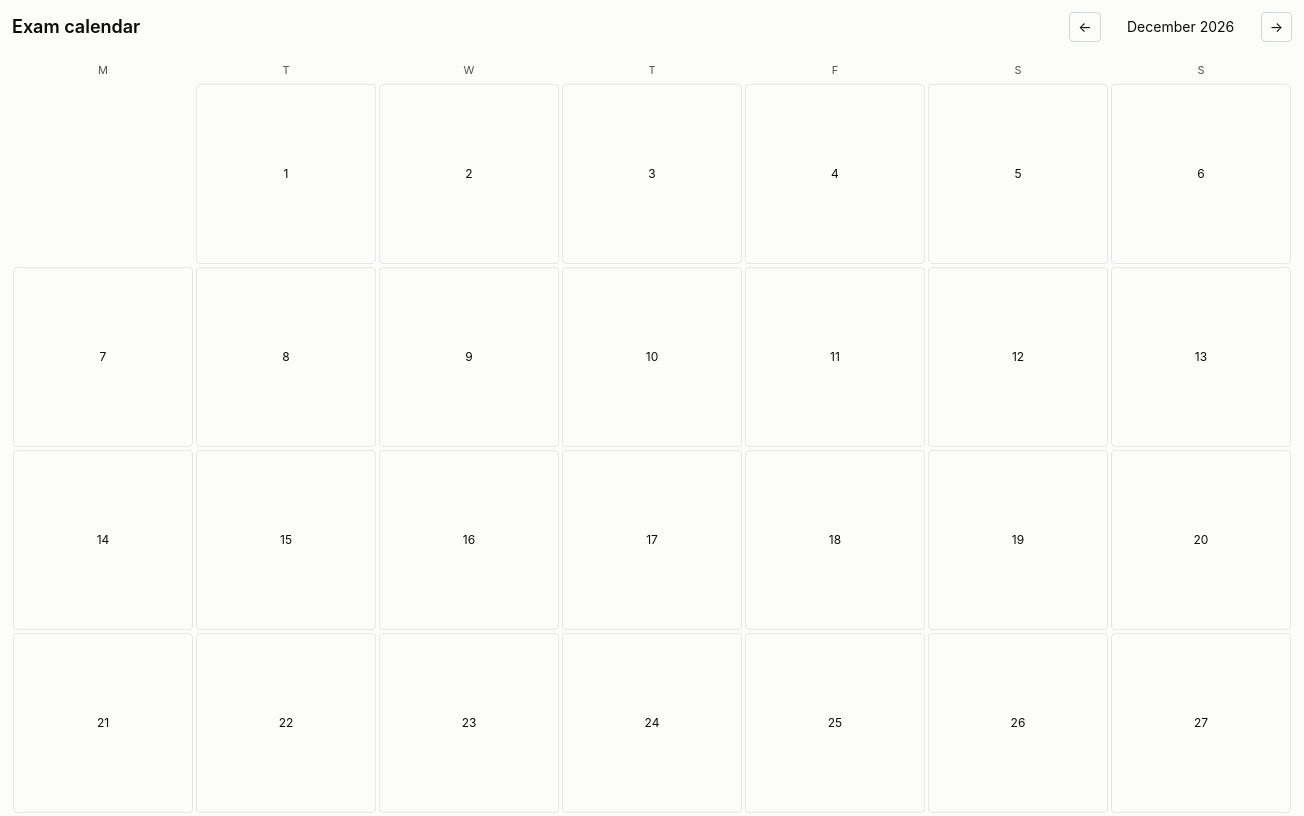
Test case: CalendarView › rolls over the year at December and January
The width and height of the screenshot is (1304, 816).
Expected: the text "December 2026" is shown, top-left (1127, 18), bottom-right (1234, 35)
Click the button named "Next month" at (1276, 27), box top-left (1261, 12), bottom-right (1292, 42)
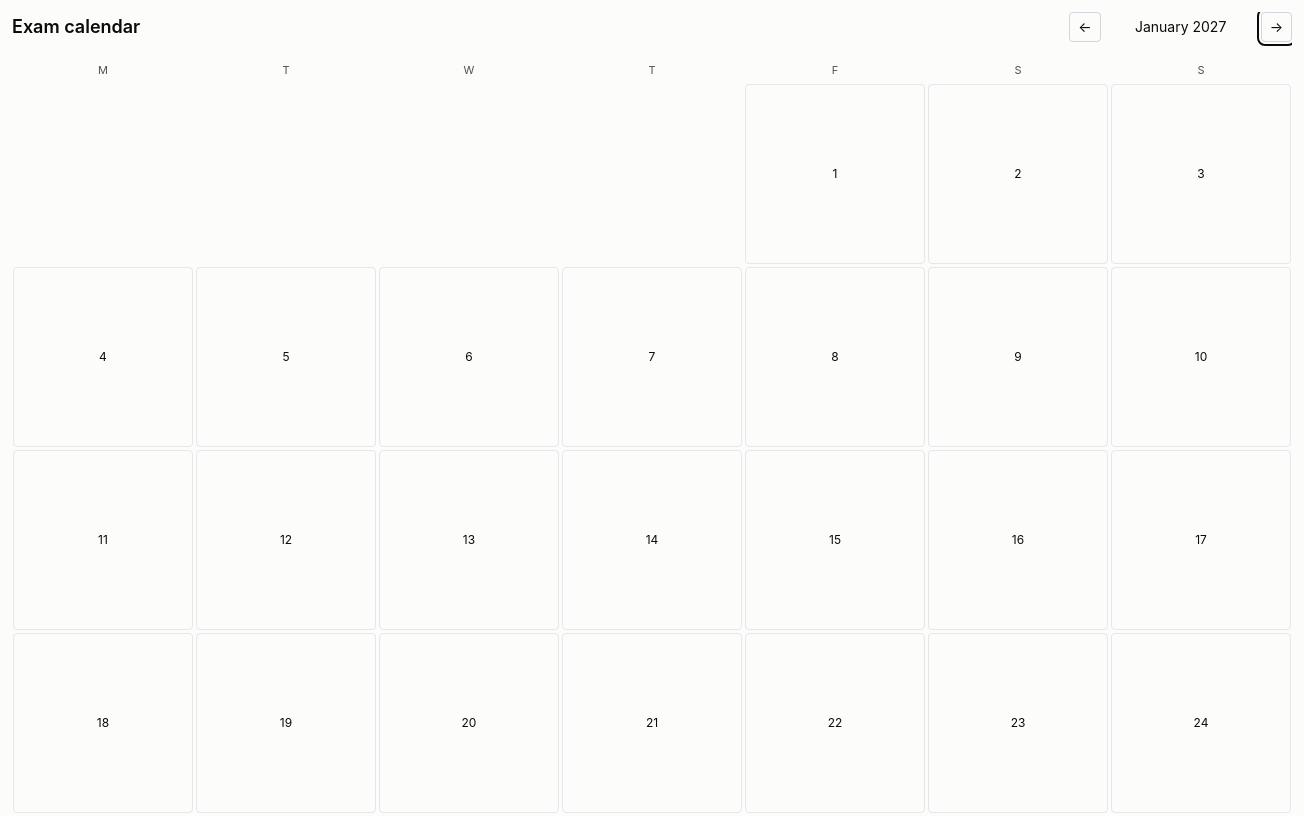
Expected: the text with test id "month-label" reads "January 2027", top-left (1135, 18), bottom-right (1226, 35)
